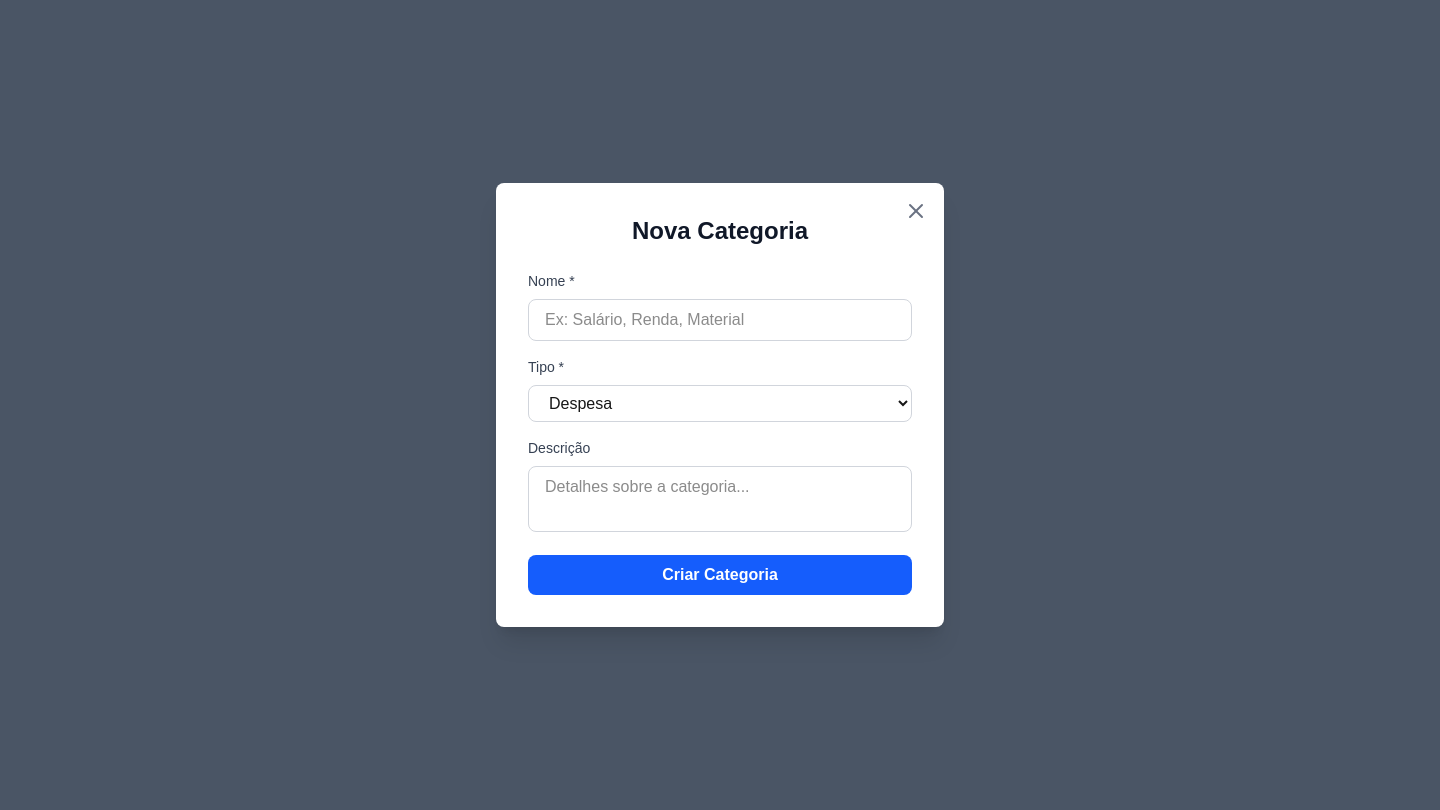
Test: CategoryForm Component › shows validation errors for empty required fields
Click the button "Criar Categoria" at point(720, 575), box [528,555,912,595]
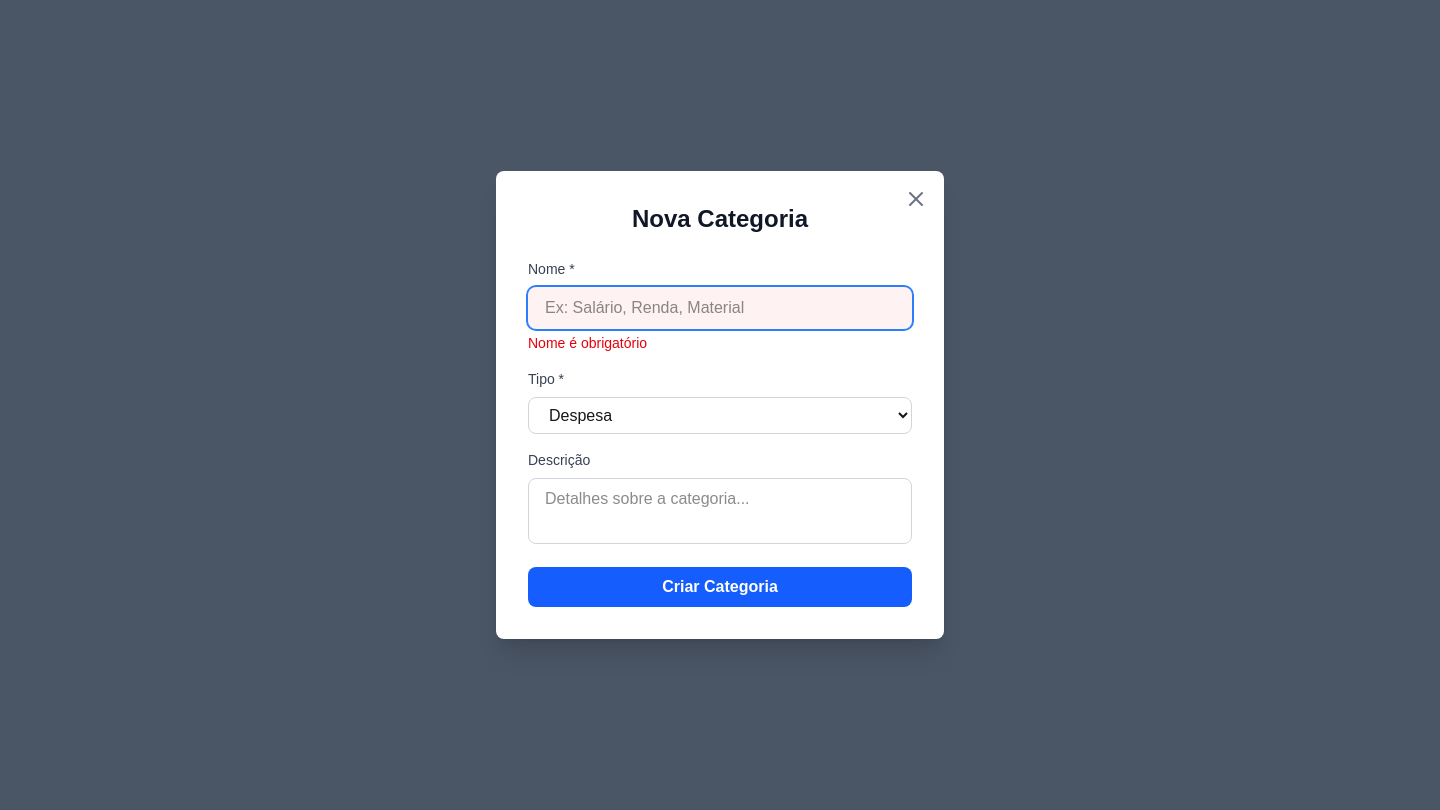
Check: the text "Nome é obrigatório" is shown, box [528,335,647,351]
